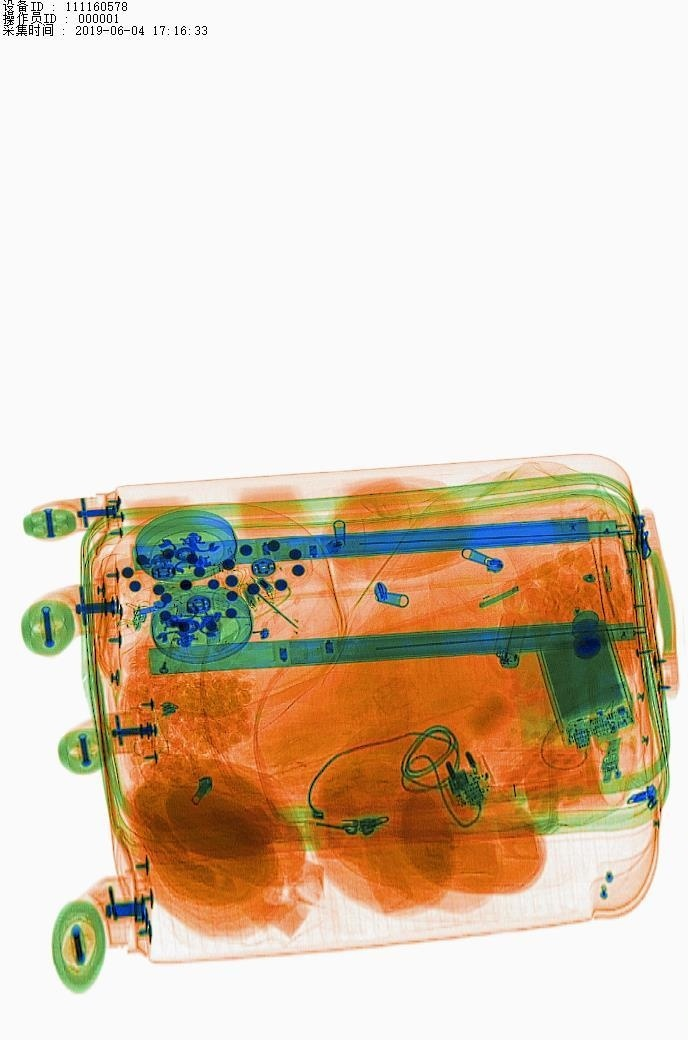NonmetallicFire: (480, 603, 537, 679)
